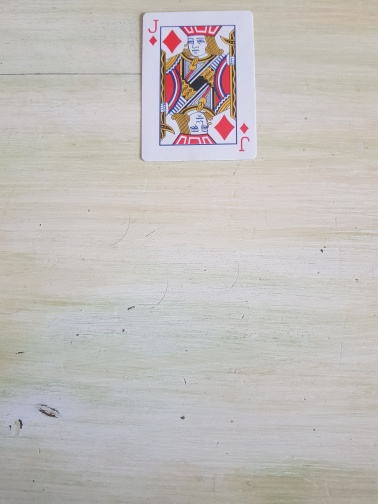jack: (140, 11, 258, 162)
